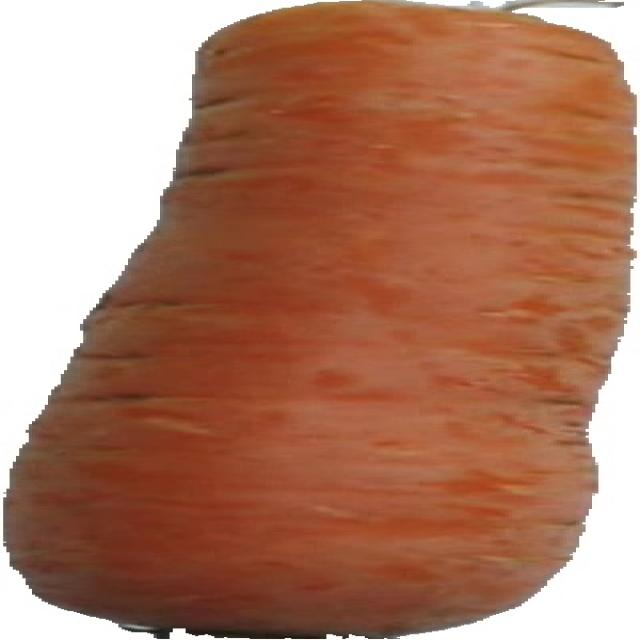carrot: (8, 1, 631, 638)
